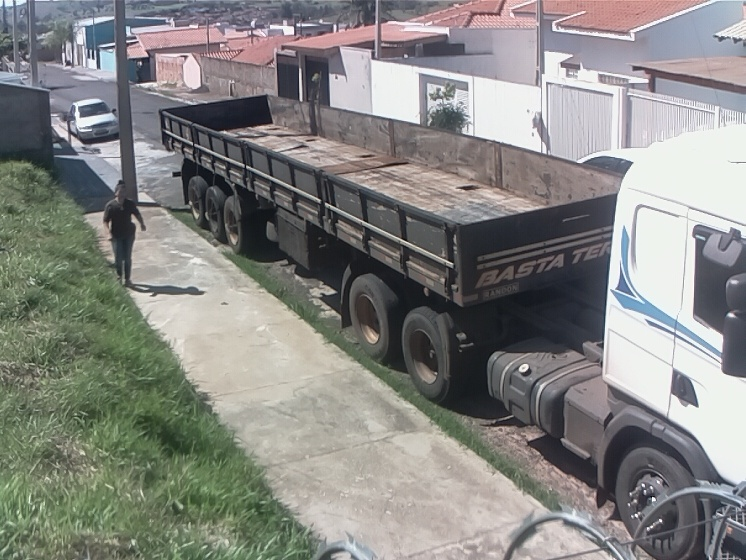person: (97, 177, 149, 288)
